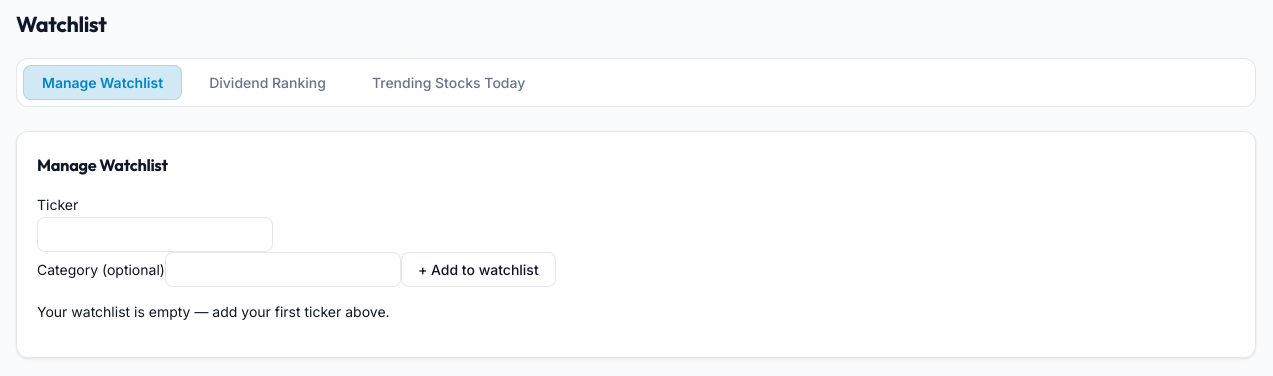
Test case: WatchlistPage › switches to the Dividend Ranking sub-tab and shows its content
The image size is (1273, 376).
expect the text "Your watchlist is empty — add your first ticker above." is shown: met, box [37,302,390,320]
Click the button "Dividend Ranking" at (268, 82), box [190,64,345,100]
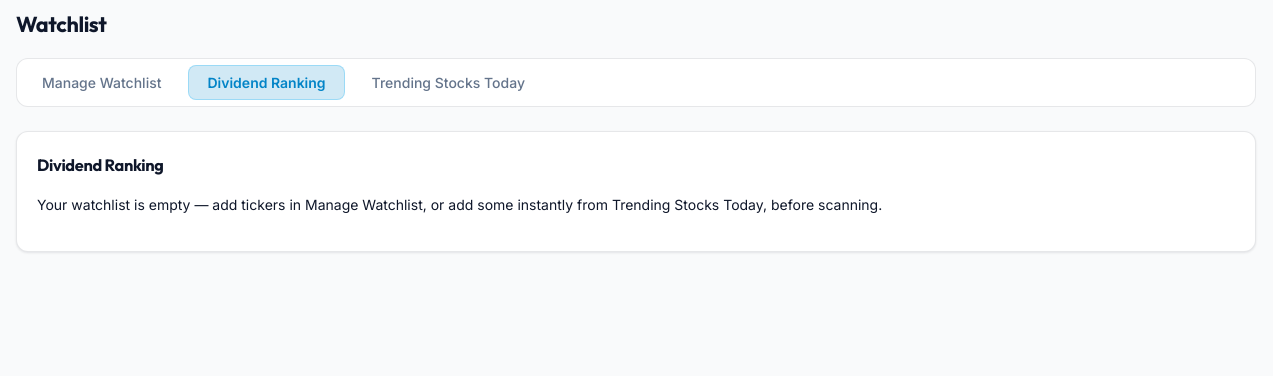
expect the heading "Dividend Ranking" is shown: met, box [37,154,164,174]
